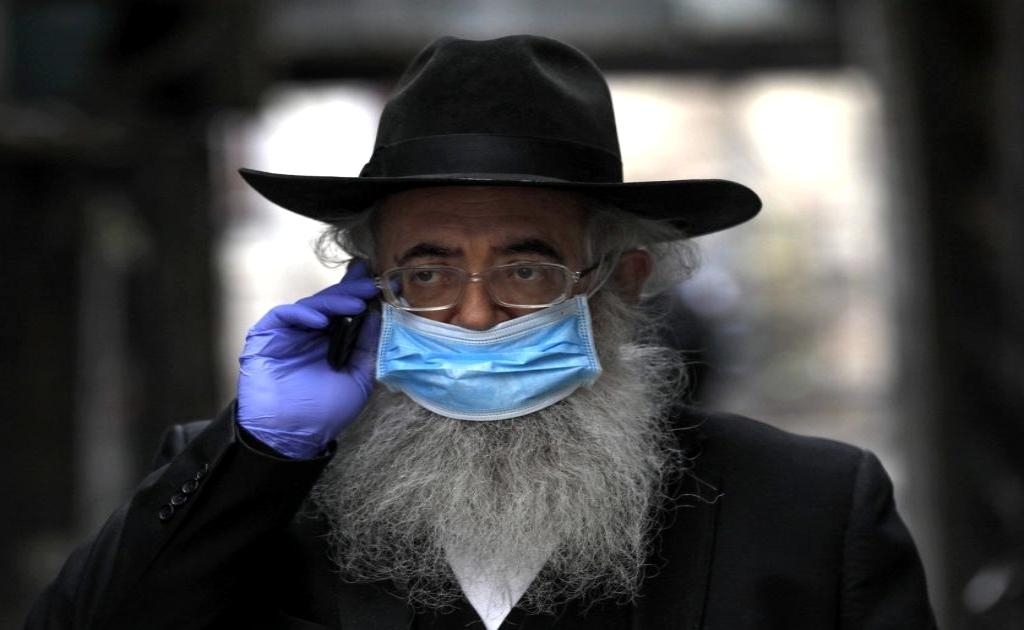mask_weared_incorrect: (356, 192, 647, 427)
